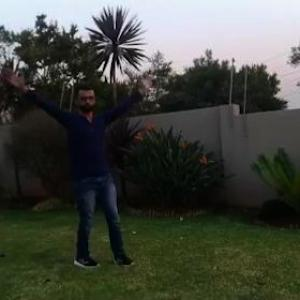takeoff: (11, 74, 158, 268)
